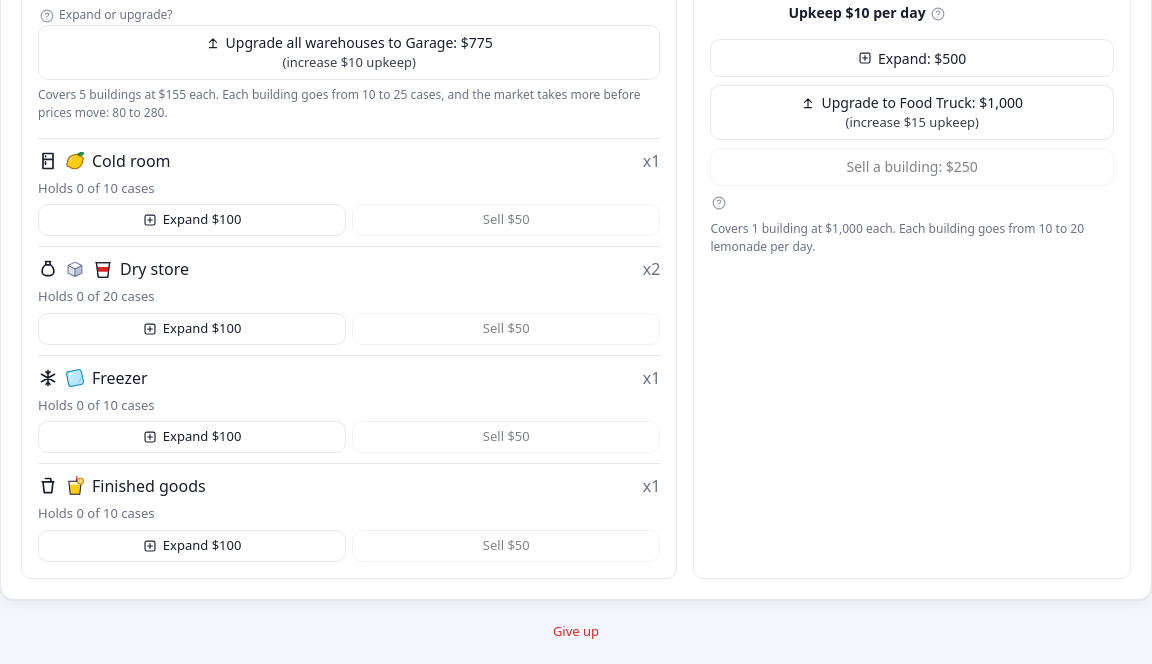
Scenario: GameComponent › give up › asks first, showing the score it would record, and does nothing on cancel
This screenshot has width=1152, height=664.
(page scrolled)
Step 1. Click the button "Give up" → (576, 632), box [542, 616, 610, 648]
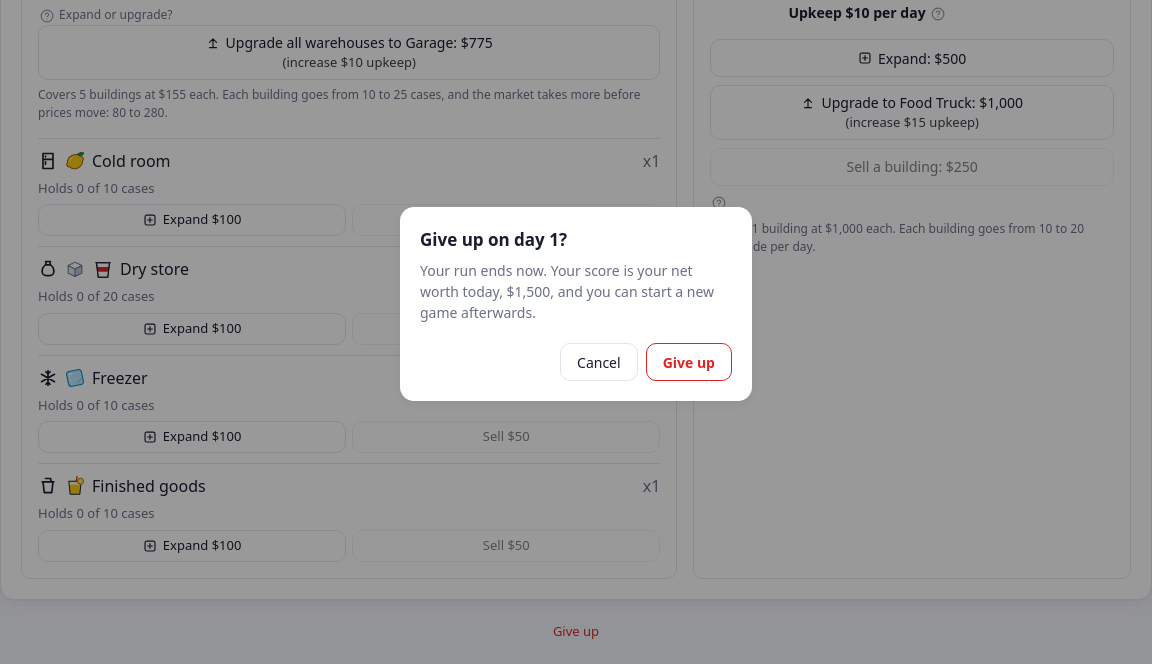
Now the dialog shows "Give up on day 1?", box [420, 228, 567, 251]
Now the dialog shows "$1,500", box [420, 261, 714, 322]
Step 2. Click the button with class "cancel" → (599, 362), box [560, 343, 638, 381]
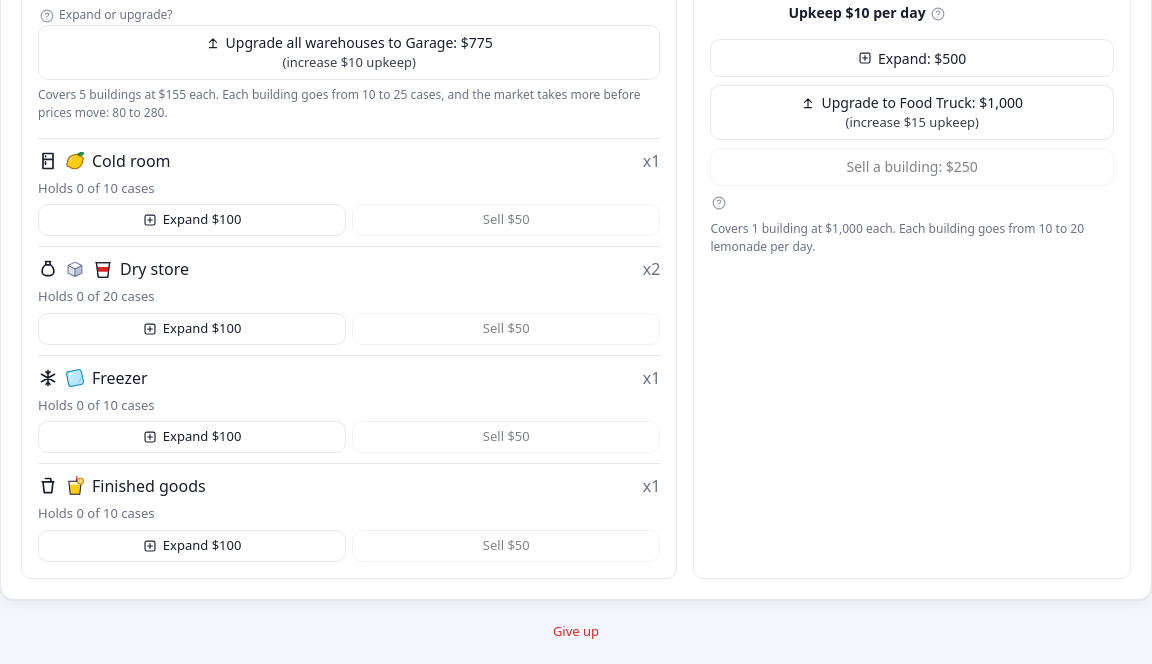
Now the dialog is gone
